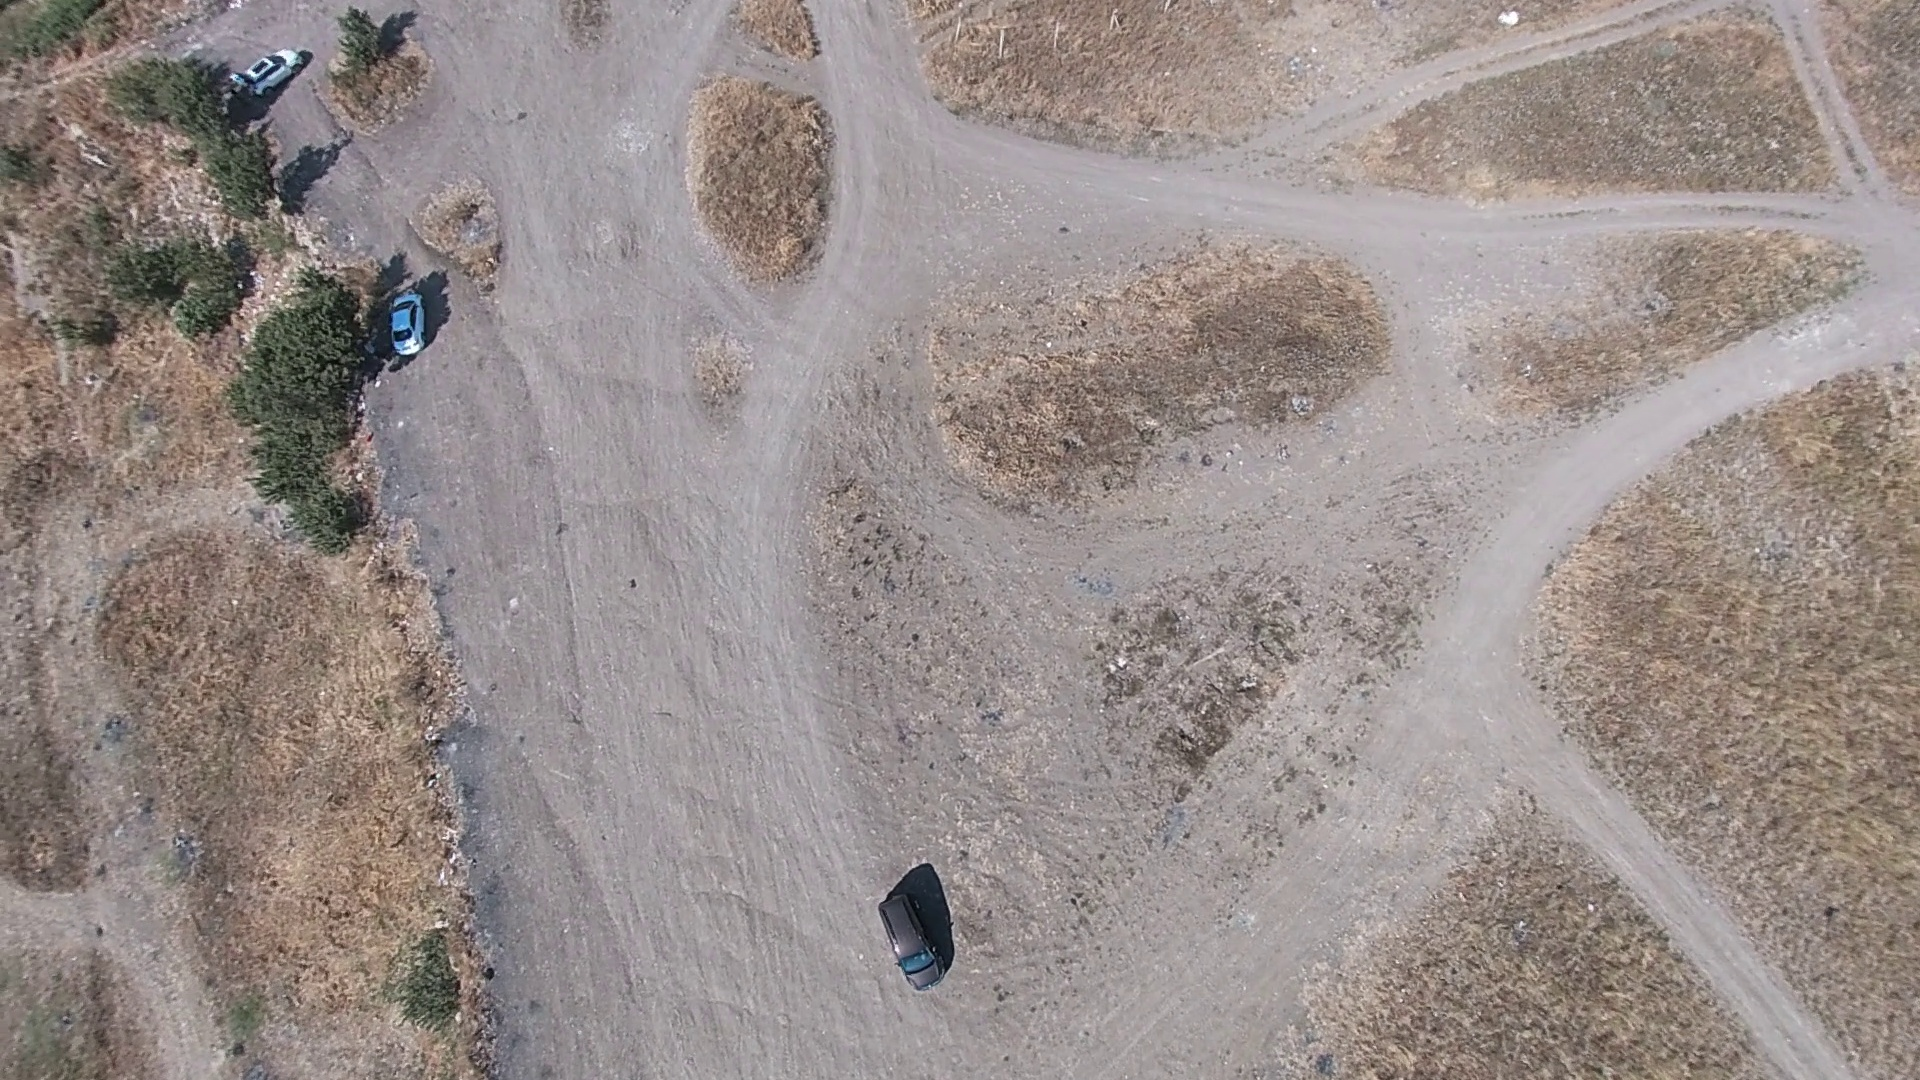araba: (873, 876, 945, 993), (228, 41, 310, 100), (386, 289, 436, 357)
